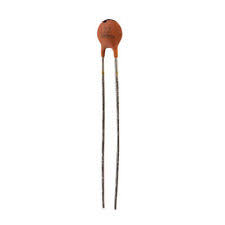ceramic capacitor: (76, 3, 146, 82)
